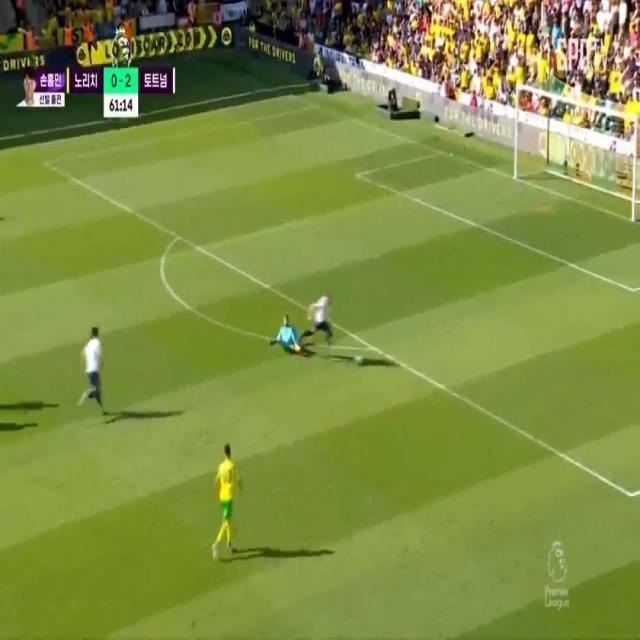ball: (353, 348, 368, 370)
goalkeeper: (267, 308, 302, 359)
player: (211, 441, 239, 575), (81, 328, 107, 404), (303, 289, 334, 347)
